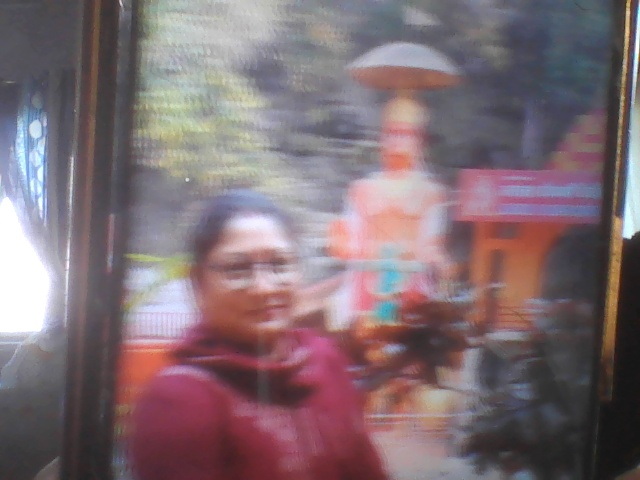fake: (186, 172, 321, 364)
